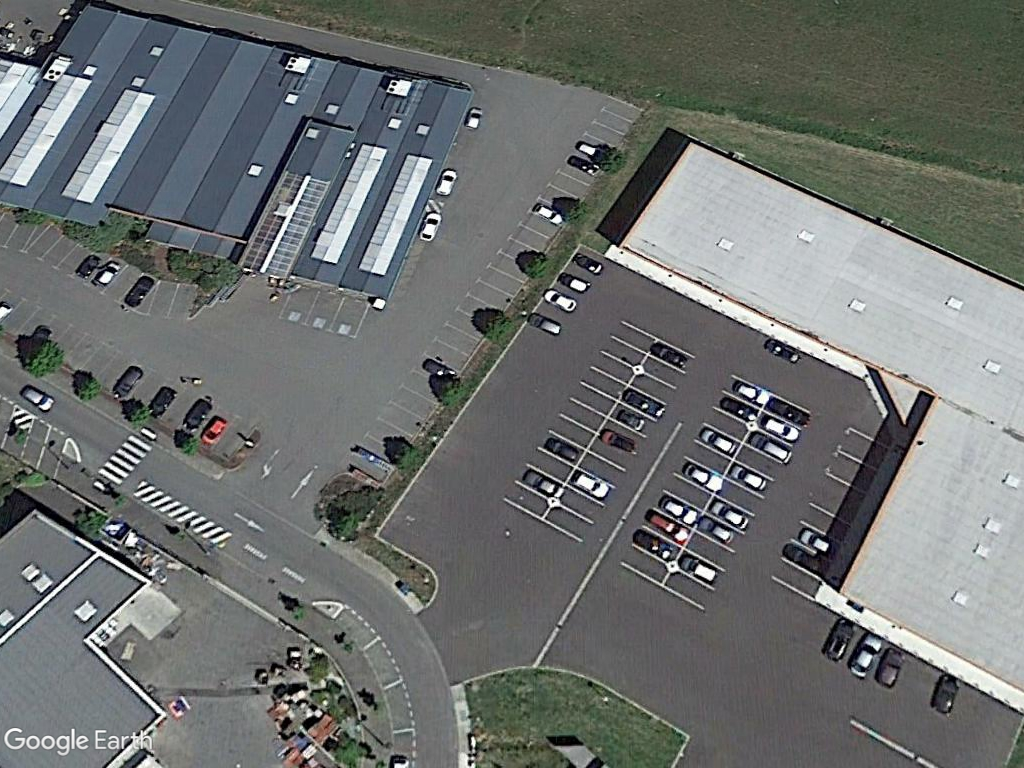car: (681, 453, 727, 494), (521, 465, 568, 505), (697, 422, 740, 455), (571, 465, 611, 500), (18, 380, 57, 414), (525, 308, 564, 337), (540, 289, 580, 314), (530, 199, 564, 226)
